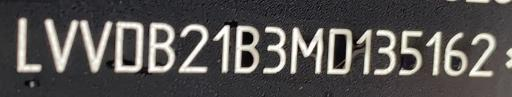letter: (42, 16, 80, 75), (78, 16, 112, 75), (288, 24, 326, 75), (176, 21, 210, 74), (14, 14, 44, 73), (112, 19, 144, 74), (146, 21, 176, 76), (325, 25, 355, 76), (232, 22, 260, 75), (396, 26, 424, 79), (260, 24, 288, 75), (468, 29, 496, 80), (372, 27, 398, 76), (442, 30, 468, 79), (210, 22, 232, 73), (422, 27, 444, 78), (354, 25, 374, 76)
